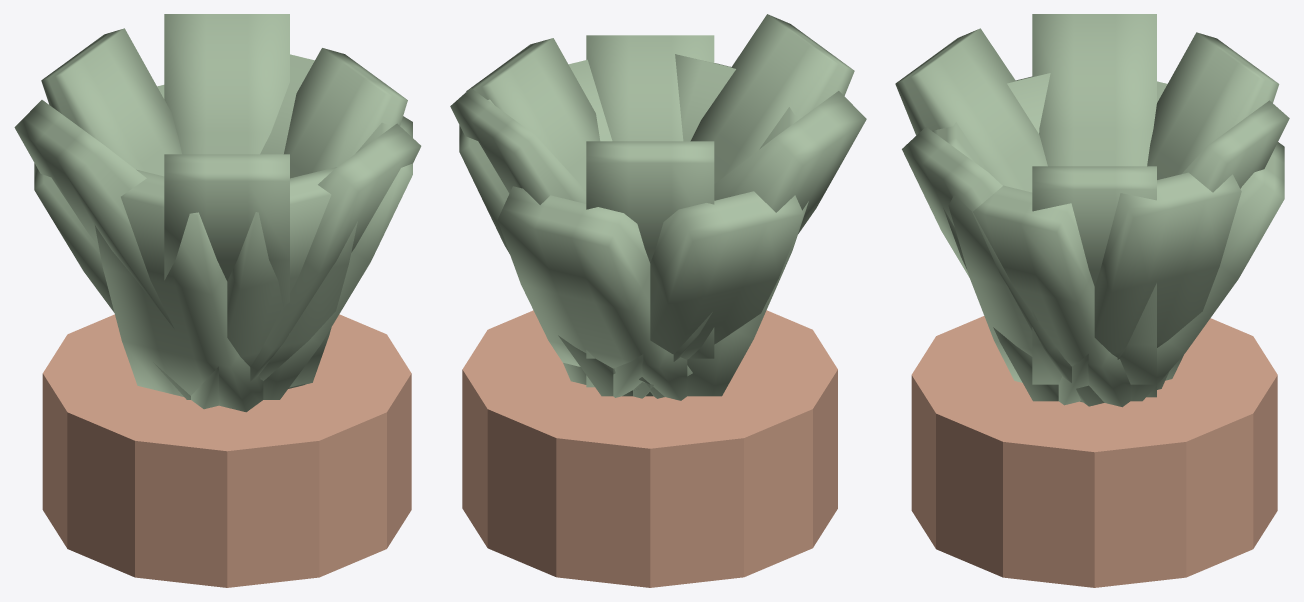
The picture shows the model from 3 angles, left to right: view 1: azimuth 30°, elevation 25°; view 2: azimuth 150°, elevation 25°; view 3: azimuth 270°, elevation 25°; orthographic projection. The views are drawn at different scales.
Visible parts, largest first — view 1: AloeVera, Pot; view 2: AloeVera, Pot; view 3: AloeVera, Pot.
Part boxes in pixels (left/top/right/bottom): AloeVera: left=14, top=14, right=421, bottom=412; Pot: left=42, top=314, right=411, bottom=587; AloeVera: left=450, top=14, right=866, bottom=400; Pot: left=462, top=310, right=837, bottom=587; AloeVera: left=895, top=14, right=1289, bottom=407; Pot: left=911, top=316, right=1277, bottom=587.
Size of what is drawn, in the model's own units: 0.4808 by 0.5622 by 0.4741.
